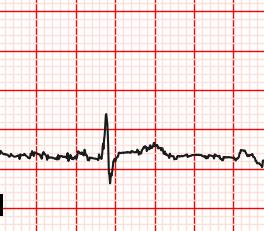ST Depression: (92, 152, 123, 187)
